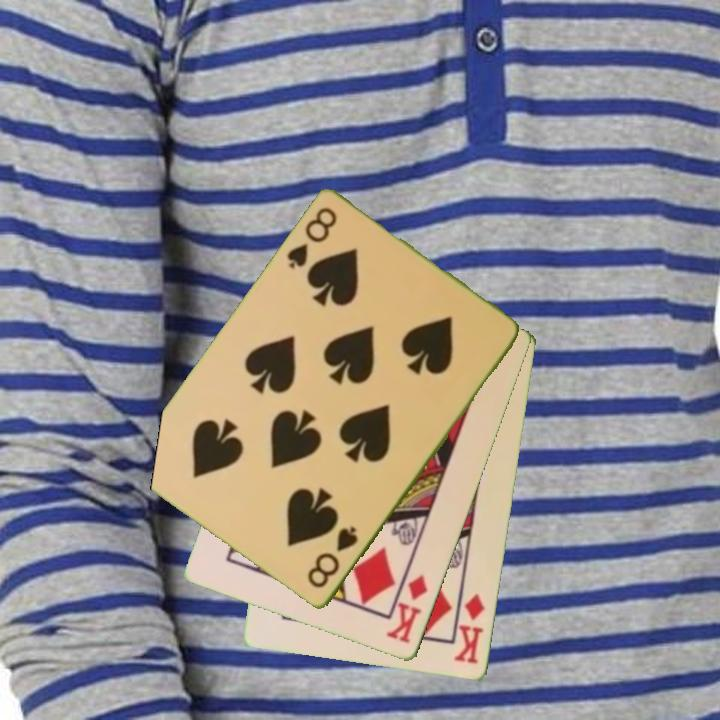8s: (303, 523, 361, 592), (283, 204, 341, 273)
Kd: (383, 571, 431, 647), (451, 590, 489, 667)
